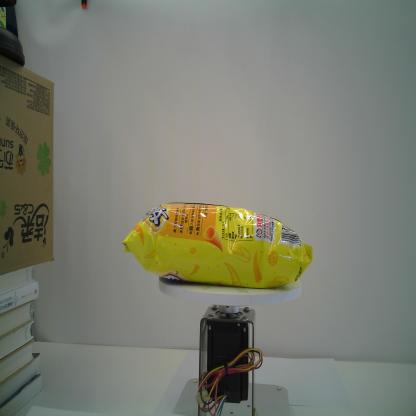Puffed Food: (121, 200, 315, 291)
